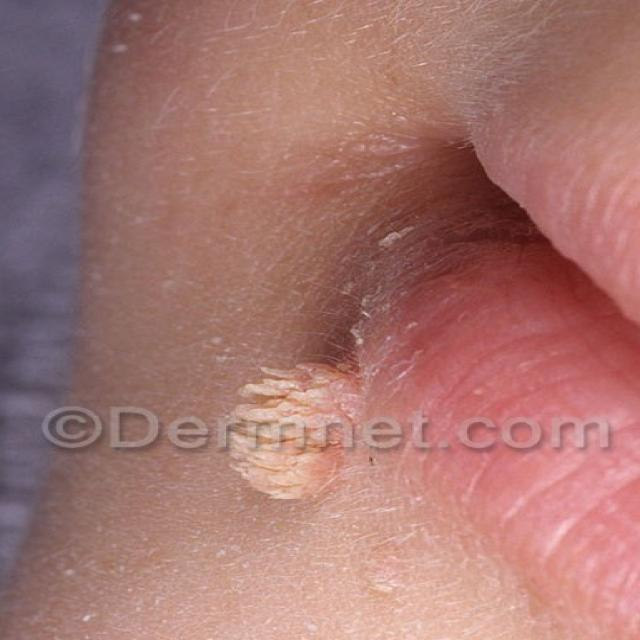Warts: (177, 356, 422, 521)
